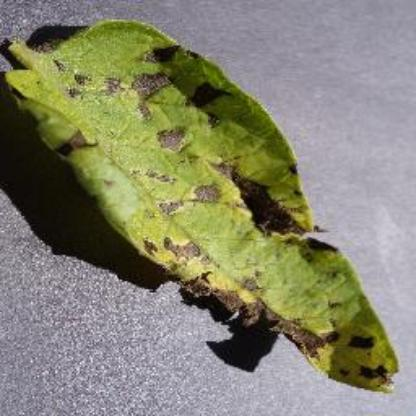Early-Blight: (0, 16, 400, 394)
